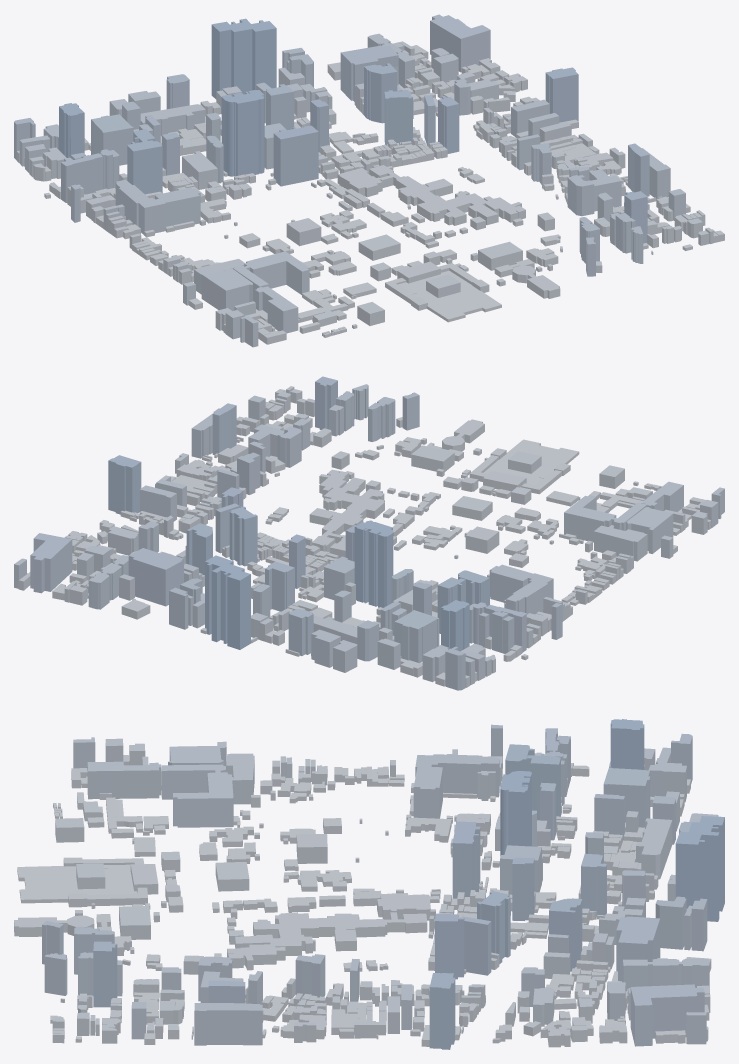
3 views of the same model, one above another, from view 1: azimuth 30°, elevation 25°; view 2: azimuth 150°, elevation 25°; view 3: azimuth 270°, elevation 25° (orthographic). The views are drawn at different scales.
Size of the model in its own units: 517 by 76.21 by 544.
